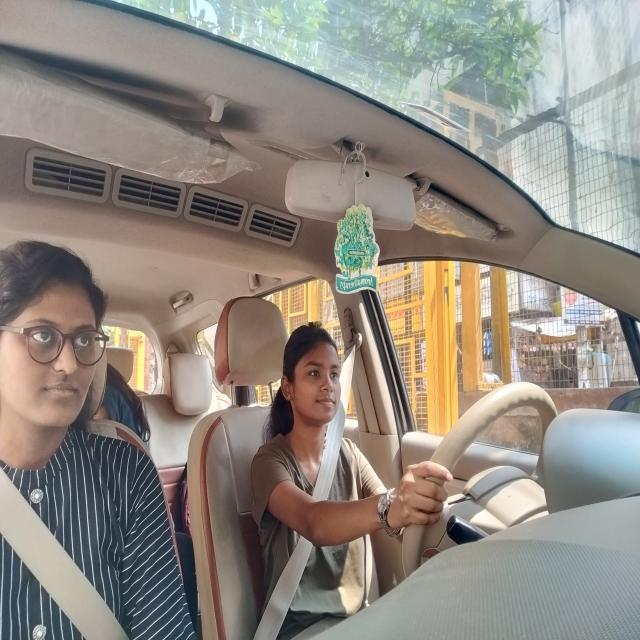person: (3, 231, 109, 456), (259, 307, 354, 445)
